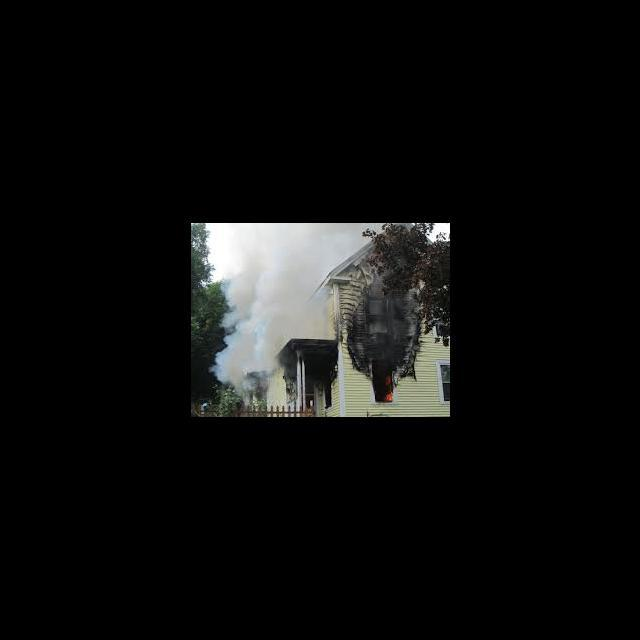Fire: (384, 377, 394, 402)
Smoke: (227, 226, 344, 386)
